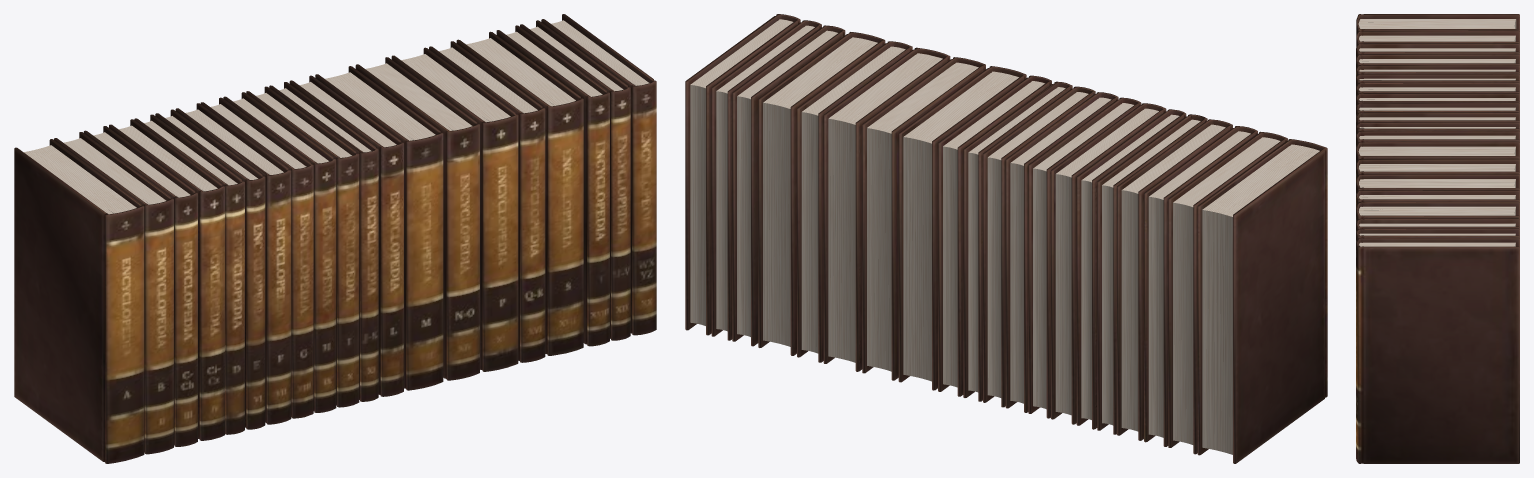
File: book_encyclopedia_set_01.glb
The picture shows the model from 3 angles, left to right: view 1: azimuth 30°, elevation 25°; view 2: azimuth 150°, elevation 25°; view 3: azimuth 270°, elevation 25°; orthographic projection. The views are drawn at different scales.
Parts seen in each view (by area): view 1: book_encyclopedia_set_01_book01, book_encyclopedia_set_01_book13, book_encyclopedia_set_01_book15, book_encyclopedia_set_01_book17, book_encyclopedia_set_01_book14, book_encyclopedia_set_01_book02, book_encyclopedia_set_01_book16, book_encyclopedia_set_01_book04, book_encyclopedia_set_01_book18, book_encyclopedia_set_01_book20, book_encyclopedia_set_01_book07, book_encyclopedia_set_01_book12 (+8 smaller); view 2: book_encyclopedia_set_01_book01, book_encyclopedia_set_01_book13, book_encyclopedia_set_01_book15, book_encyclopedia_set_01_book17, book_encyclopedia_set_01_book14, book_encyclopedia_set_01_book02, book_encyclopedia_set_01_book04, book_encyclopedia_set_01_book16, book_encyclopedia_set_01_book18, book_encyclopedia_set_01_book20, book_encyclopedia_set_01_book07, book_encyclopedia_set_01_book12 (+8 smaller); view 3: book_encyclopedia_set_01_book20, book_encyclopedia_set_01_book13, book_encyclopedia_set_01_book17, book_encyclopedia_set_01_book01, book_encyclopedia_set_01_book15, book_encyclopedia_set_01_book14, book_encyclopedia_set_01_book02, book_encyclopedia_set_01_book03, book_encyclopedia_set_01_book16, book_encyclopedia_set_01_book12, book_encyclopedia_set_01_book07, book_encyclopedia_set_01_book04 (+8 smaller).
Part boxes in pixels (x1=…): book_encyclopedia_set_01_book01: x1=14, y1=139, x2=144, y2=463; book_encyclopedia_set_01_book13: x1=315, y1=66, x2=443, y2=390; book_encyclopedia_set_01_book15: x1=391, y1=47, x2=518, y2=371; book_encyclopedia_set_01_book17: x1=456, y1=31, x2=583, y2=355; book_encyclopedia_set_01_book14: x1=355, y1=57, x2=479, y2=380; book_encyclopedia_set_01_book02: x1=54, y1=132, x2=173, y2=454; book_encyclopedia_set_01_book16: x1=429, y1=41, x2=545, y2=362; book_encyclopedia_set_01_book04: x1=109, y1=119, x2=224, y2=440; book_encyclopedia_set_01_book18: x1=496, y1=25, x2=609, y2=346; book_encyclopedia_set_01_book20: x1=541, y1=14, x2=656, y2=335; book_encyclopedia_set_01_book07: x1=175, y1=103, x2=291, y2=424; book_encyclopedia_set_01_book12: x1=289, y1=75, x2=403, y2=396; book_encyclopedia_set_01_book01: x1=1197, y1=139, x2=1327, y2=463; book_encyclopedia_set_01_book13: x1=898, y1=66, x2=1026, y2=390; book_encyclopedia_set_01_book15: x1=823, y1=47, x2=950, y2=371; book_encyclopedia_set_01_book17: x1=758, y1=32, x2=885, y2=355; book_encyclopedia_set_01_book14: x1=862, y1=57, x2=985, y2=380; book_encyclopedia_set_01_book02: x1=1168, y1=131, x2=1287, y2=454; book_encyclopedia_set_01_book04: x1=1117, y1=119, x2=1232, y2=440; book_encyclopedia_set_01_book16: x1=797, y1=41, x2=912, y2=362; book_encyclopedia_set_01_book18: x1=732, y1=25, x2=845, y2=346; book_encyclopedia_set_01_book20: x1=685, y1=14, x2=800, y2=335; book_encyclopedia_set_01_book07: x1=1051, y1=103, x2=1166, y2=424; book_encyclopedia_set_01_book12: x1=938, y1=75, x2=1051, y2=396; book_encyclopedia_set_01_book20: x1=1356, y1=238, x2=1519, y2=463; book_encyclopedia_set_01_book13: x1=1356, y1=142, x2=1519, y2=181; book_encyclopedia_set_01_book17: x1=1356, y1=202, x2=1519, y2=222; book_encyclopedia_set_01_book01: x1=1356, y1=14, x2=1519, y2=34; book_encyclopedia_set_01_book15: x1=1356, y1=174, x2=1519, y2=196; book_encyclopedia_set_01_book14: x1=1356, y1=159, x2=1519, y2=178; book_encyclopedia_set_01_book02: x1=1356, y1=30, x2=1519, y2=46; book_encyclopedia_set_01_book03: x1=1356, y1=43, x2=1519, y2=77; book_encyclopedia_set_01_book16: x1=1356, y1=190, x2=1519, y2=206; book_encyclopedia_set_01_book12: x1=1356, y1=131, x2=1519, y2=149; book_encyclopedia_set_01_book07: x1=1356, y1=82, x2=1519, y2=96; book_encyclopedia_set_01_book04: x1=1356, y1=54, x2=1519, y2=67.
Bounding box in the file's own units: 0.5513 × 0.2374 × 0.1631.
Materials: 2 (2 with a texture image).
